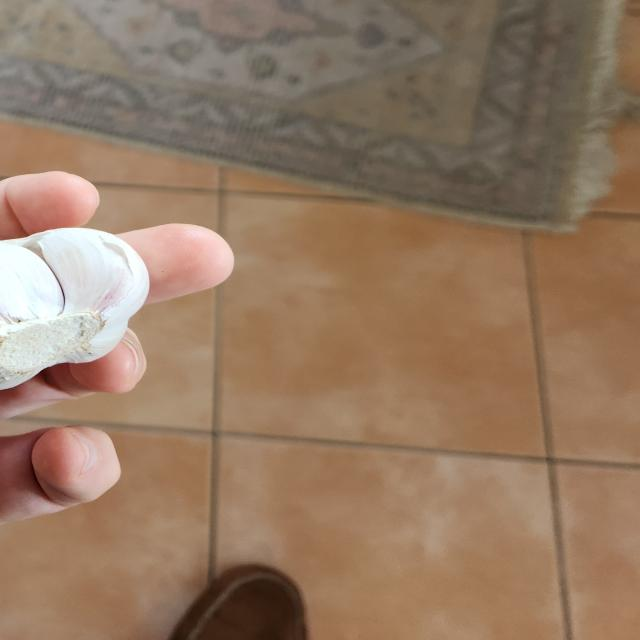garlic: (0, 227, 150, 389)
